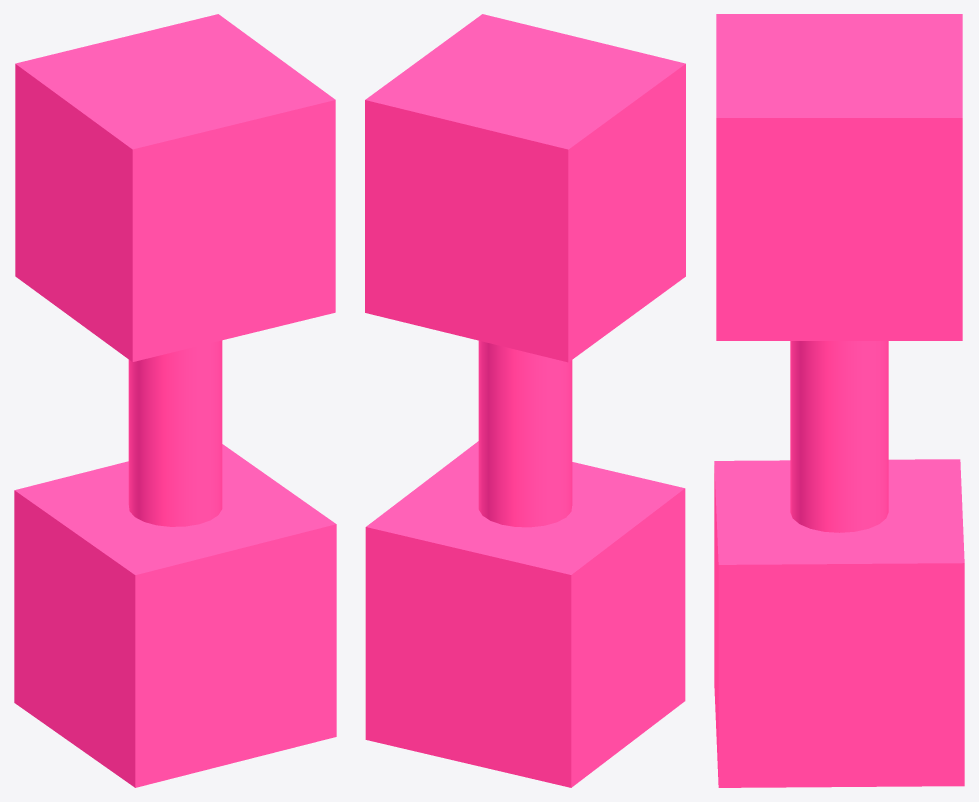
File: robot_dumbbell_red.dae
3 views of the same model, side by side, from view 1: azimuth 30°, elevation 25°; view 2: azimuth 150°, elevation 25°; view 3: azimuth 270°, elevation 25° (orthographic). The views are drawn at different scales.
Parts seen in each view (by area): view 1: dumbell; view 2: dumbell; view 3: dumbell.
Part boxes in pixels (x1=…): dumbell: x1=14, y1=14, x2=336, y2=787; dumbell: x1=365, y1=14, x2=685, y2=787; dumbell: x1=714, y1=14, x2=964, y2=787.
Bounding box in the file's own units: 5.09 × 15 × 5.09.
